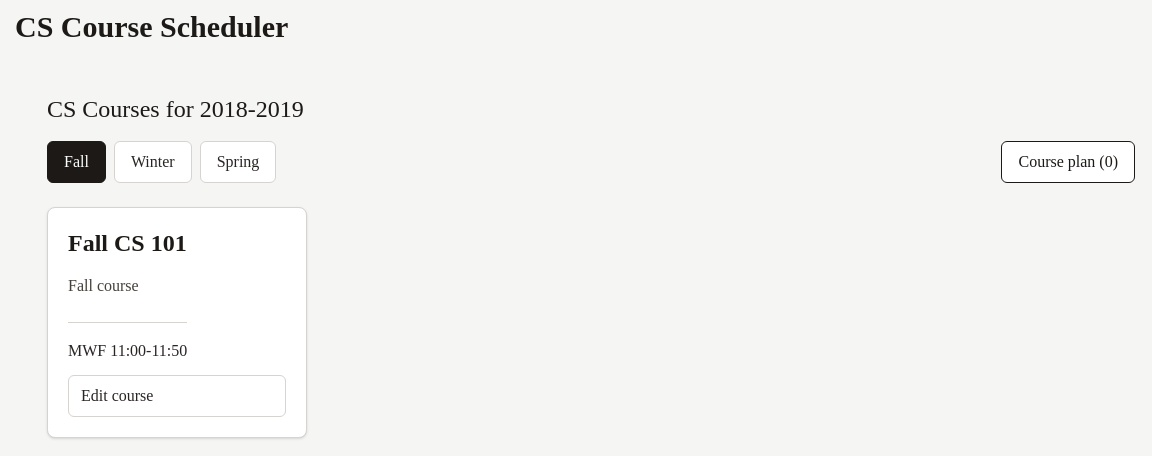
Test: App › filters courses when the selected term changes
This screenshot has width=1152, height=456.
Expected: the text "Fall course" is shown, [68, 274, 139, 298]
Expected: the text "Winter course" is not shown
Click the button "Winter". click: (153, 162)
box: [114, 141, 192, 183]
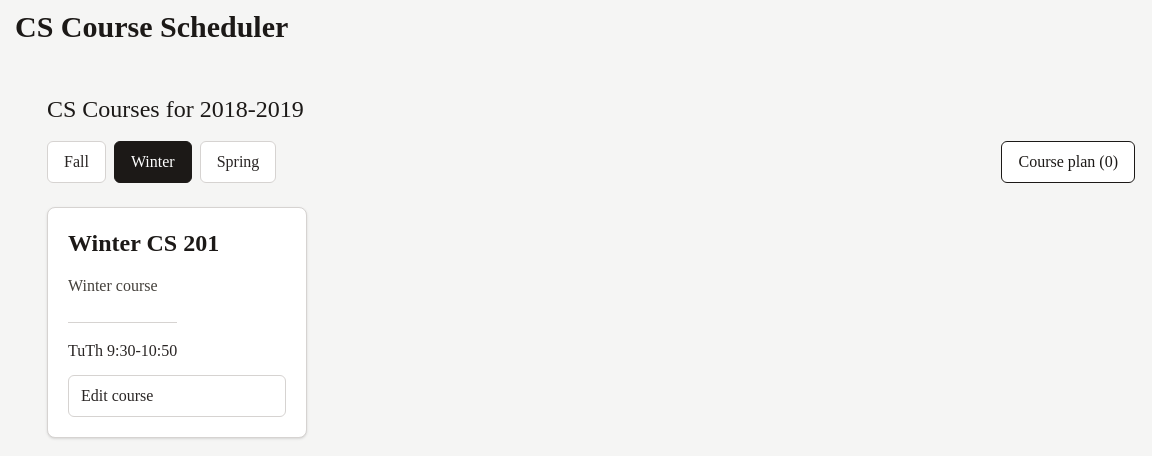
Expected: the text "Winter course" is shown, [68, 274, 158, 298]
Expected: the button "Fall course" is gone
Click the button "Spring". click: (238, 162)
box: [200, 141, 276, 183]
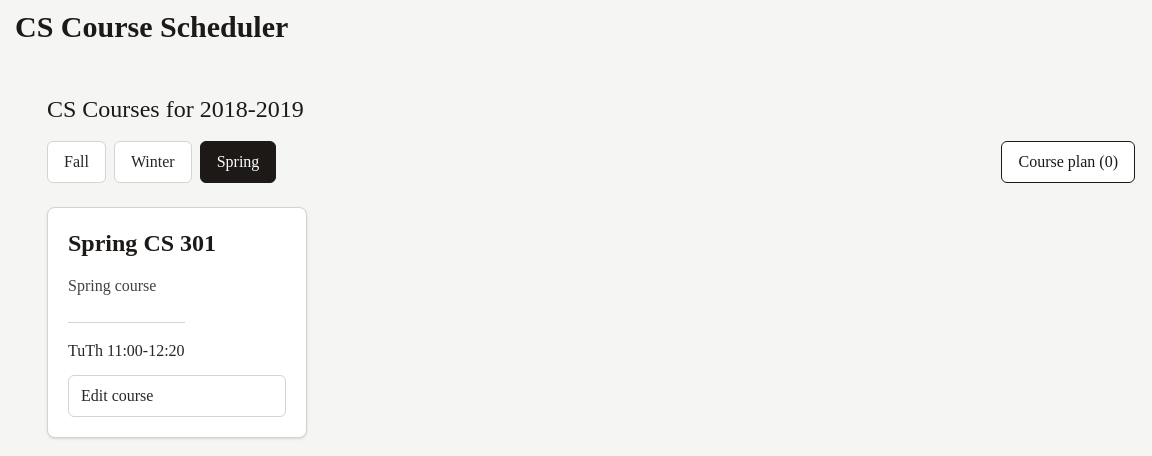
Expected: the text "Spring course" is shown, [68, 274, 156, 298]
Expected: the button "Winter course" is gone
Click the button "Fall". click: (76, 162)
box: [47, 141, 106, 183]
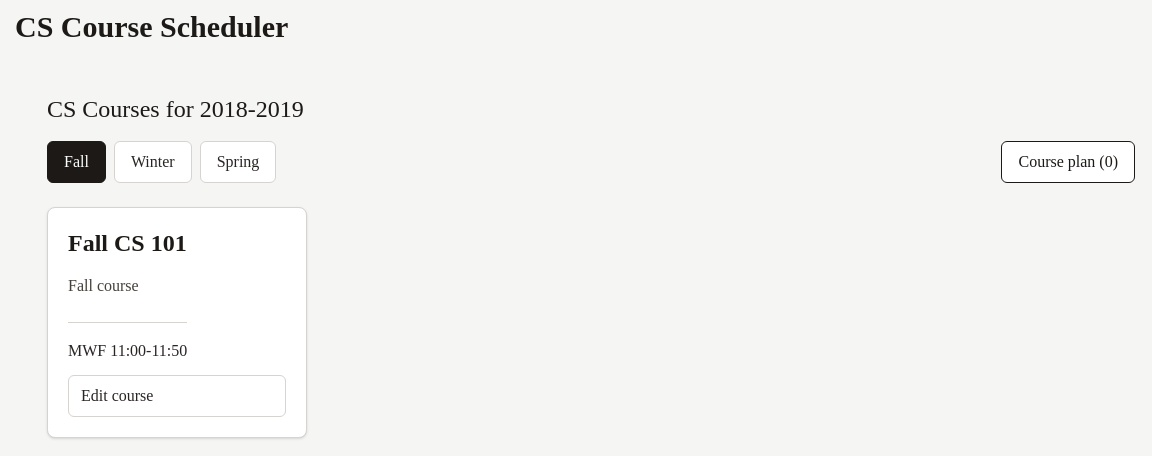
Expected: the text "Fall course" is shown, [68, 274, 139, 298]
